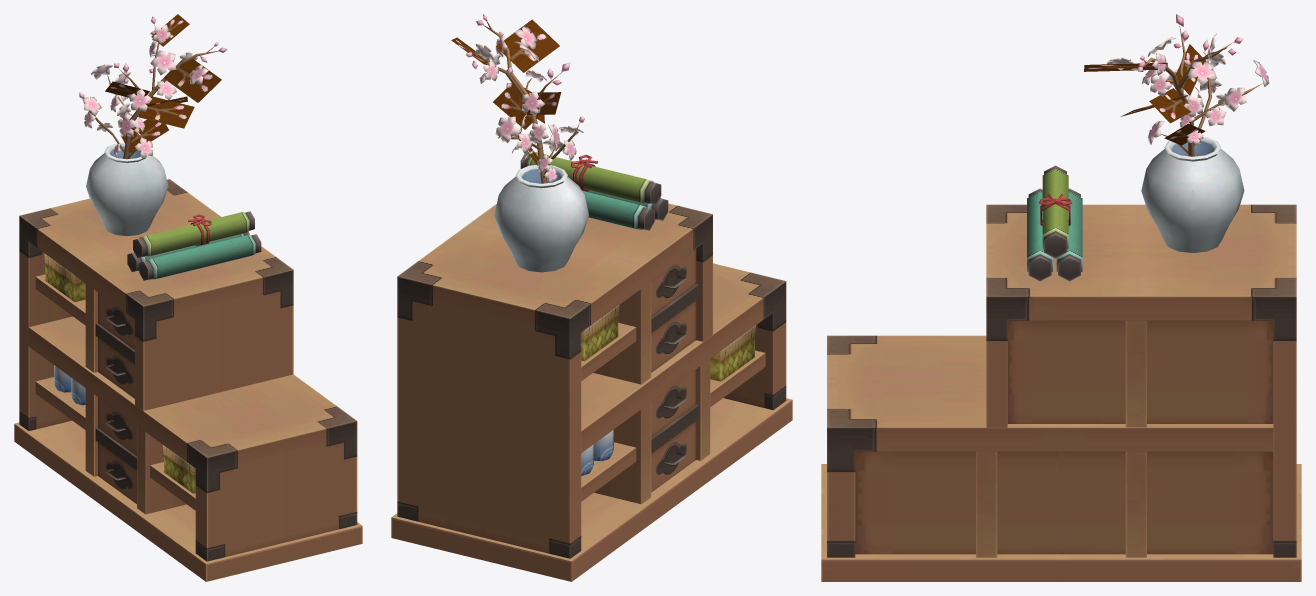
The model's file is my_hyakkiyako_01_shelf_03.glb.
3 renders of one model, left to right at view 1: azimuth 30°, elevation 25°; view 2: azimuth 150°, elevation 25°; view 3: azimuth 270°, elevation 25°, orthographic. The views are drawn at different scales.
Parts seen in each view (by area): view 1: my_hyakkiyako_01_shelf_03; view 2: my_hyakkiyako_01_shelf_03; view 3: my_hyakkiyako_01_shelf_03.
Part boxes in pixels (box(x1,y1,x2,y2)): my_hyakkiyako_01_shelf_03: box(14, 14, 362, 581); my_hyakkiyako_01_shelf_03: box(391, 14, 792, 581); my_hyakkiyako_01_shelf_03: box(821, 14, 1301, 581).
Size of the model in its own units: 0.00501 by 0.0127 by 0.0106.
1 material, 1 textured.
